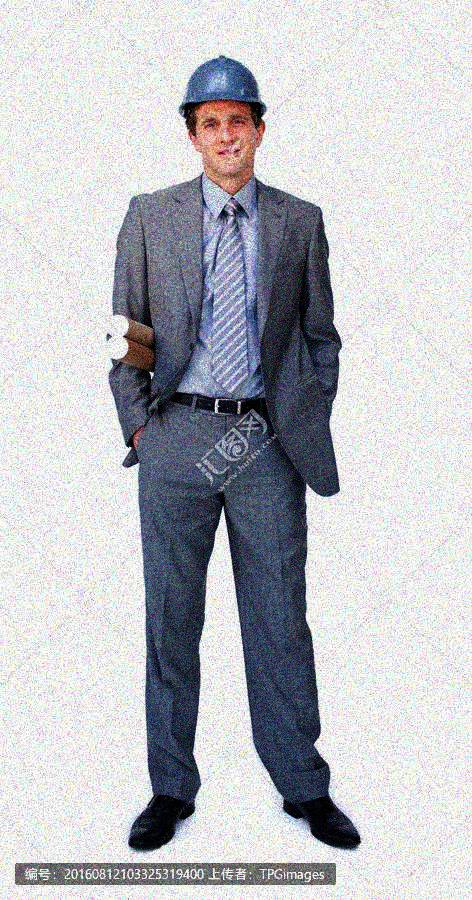helmet: (177, 53, 269, 180)
